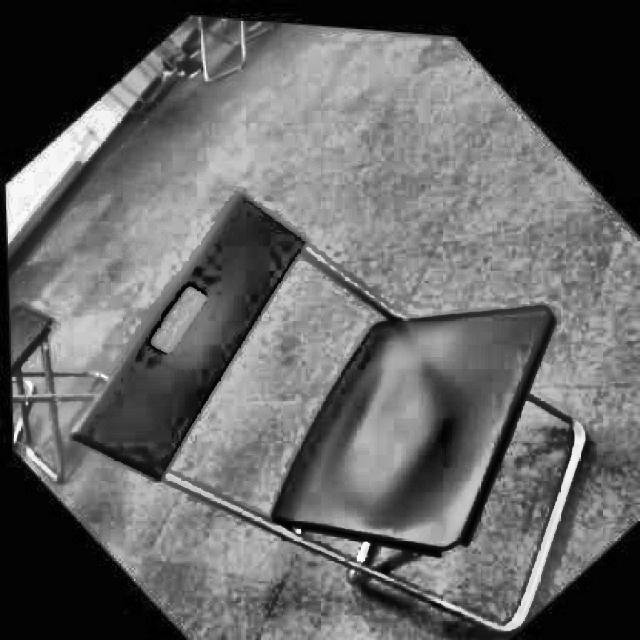cadeira: (0, 58, 638, 638), (5, 218, 160, 500)
